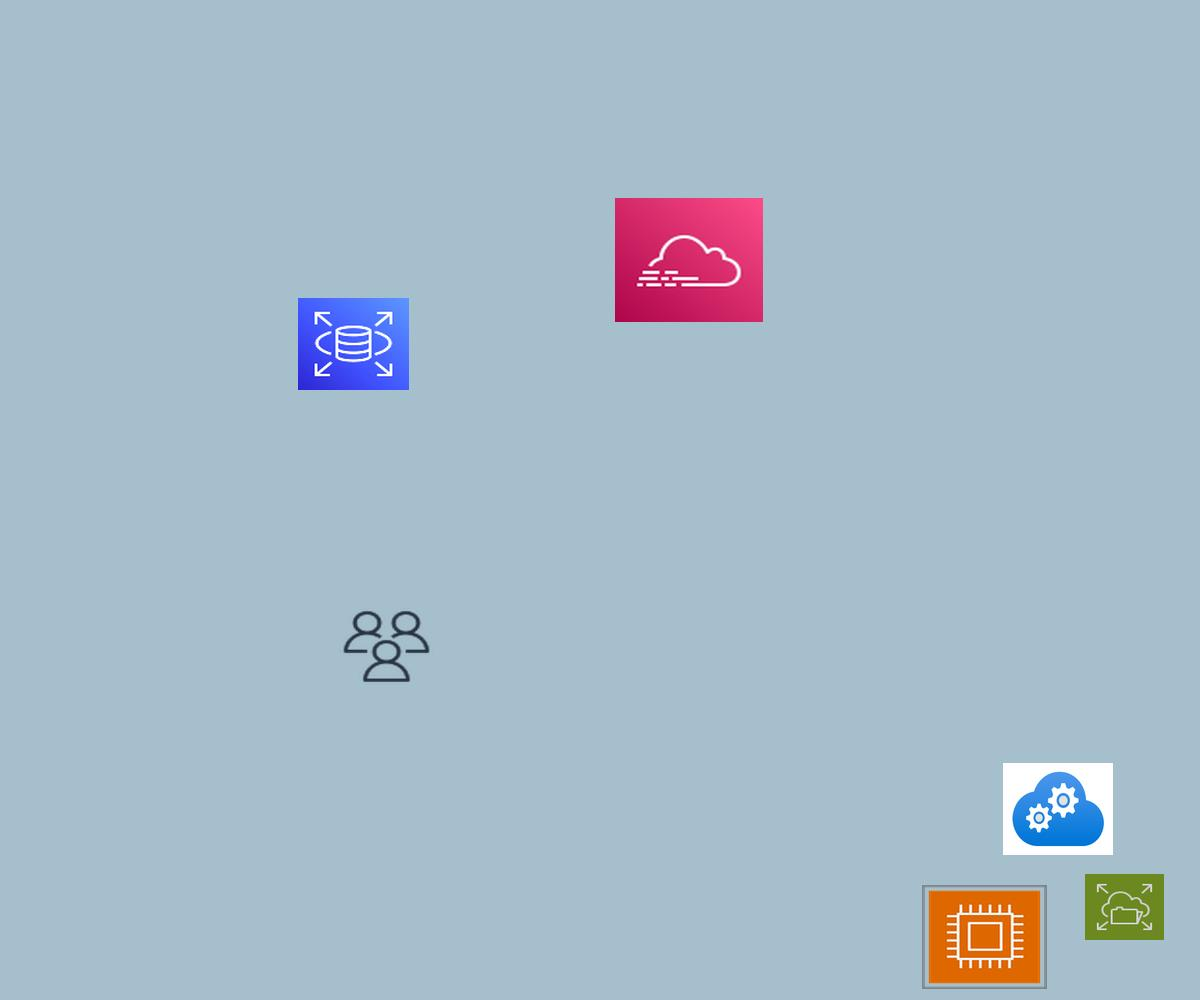AWS-Category_Compute: (922, 885, 1047, 989)
AWS-CloudTrail: (615, 198, 763, 322)
AWS-EFS: (1085, 874, 1164, 940)
AWS-RDS: (298, 298, 409, 390)
AWS-Res_Users: (340, 608, 433, 685)
Azure_cloud_services: (1003, 763, 1113, 855)
